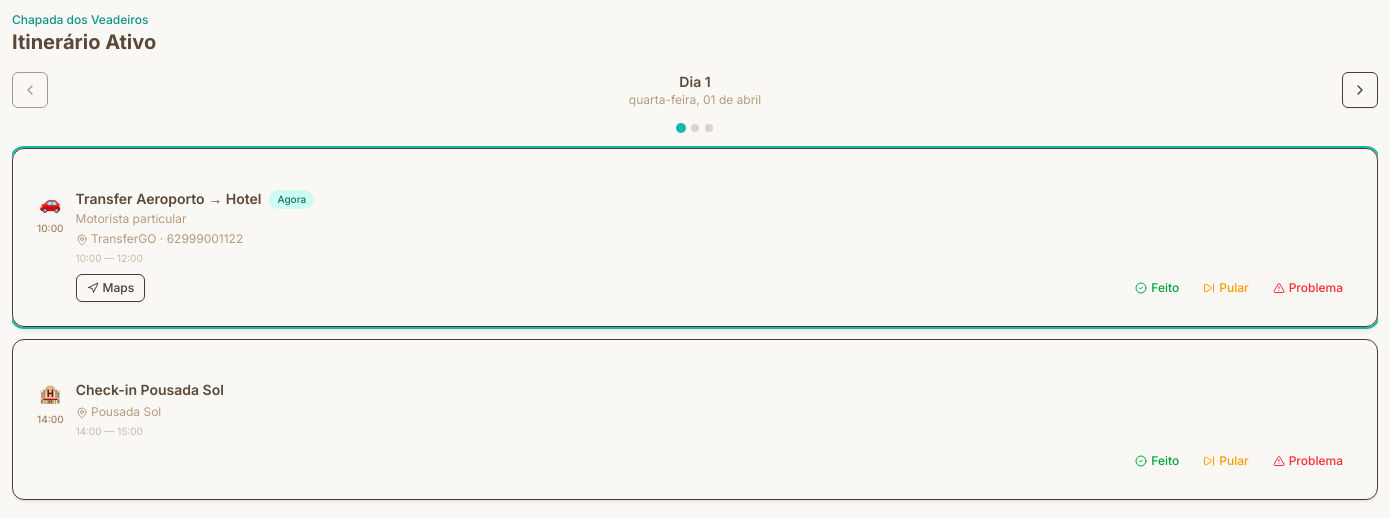
Test: LiveItinerary › marks item as skipped
What coordinates should you click on to do the following:
click the button with test id "mark-skip-li2"
I would click on:
 (1226, 461)
Its box is left=1193, top=447, right=1259, bottom=475.
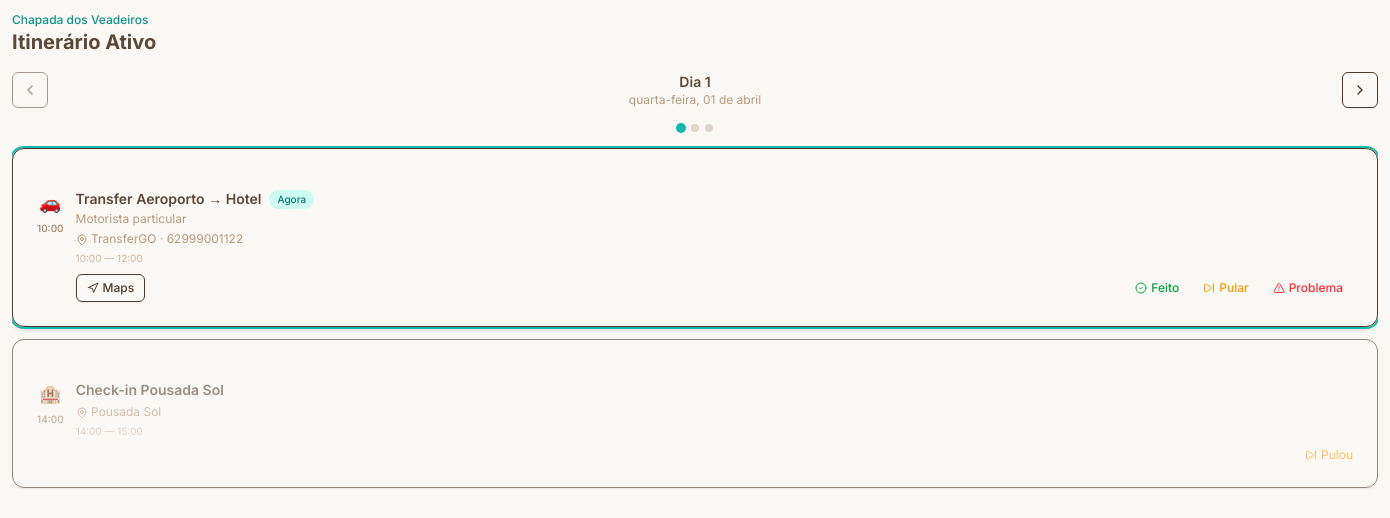
expect the element with test id "status-li2" reads "Pulou": met, box left=1321, top=447, right=1353, bottom=462
